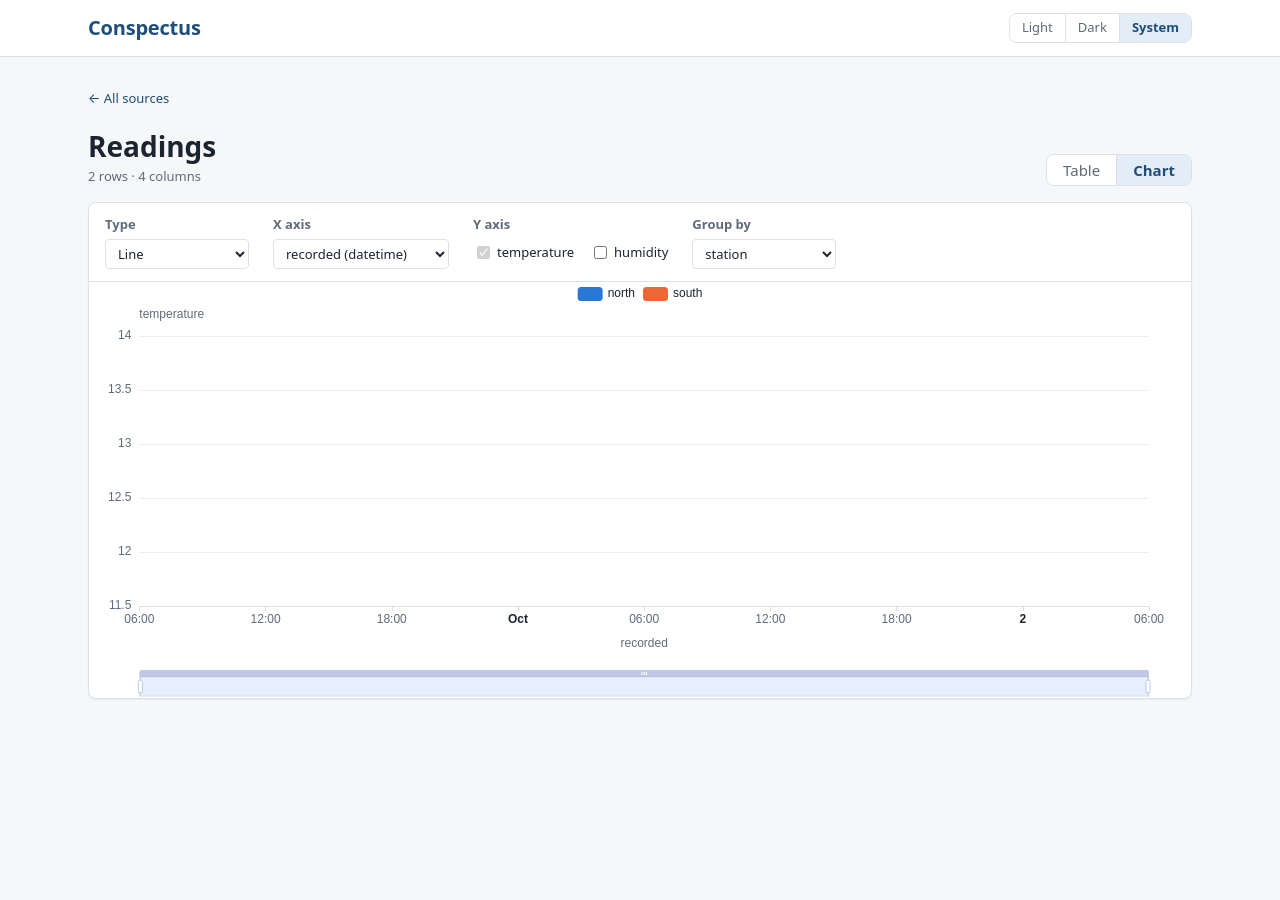
ChartView › turns off grouping when several y columns are chosen
Click the checkbox labelled "humidity": (601, 252) [594,246,607,259]
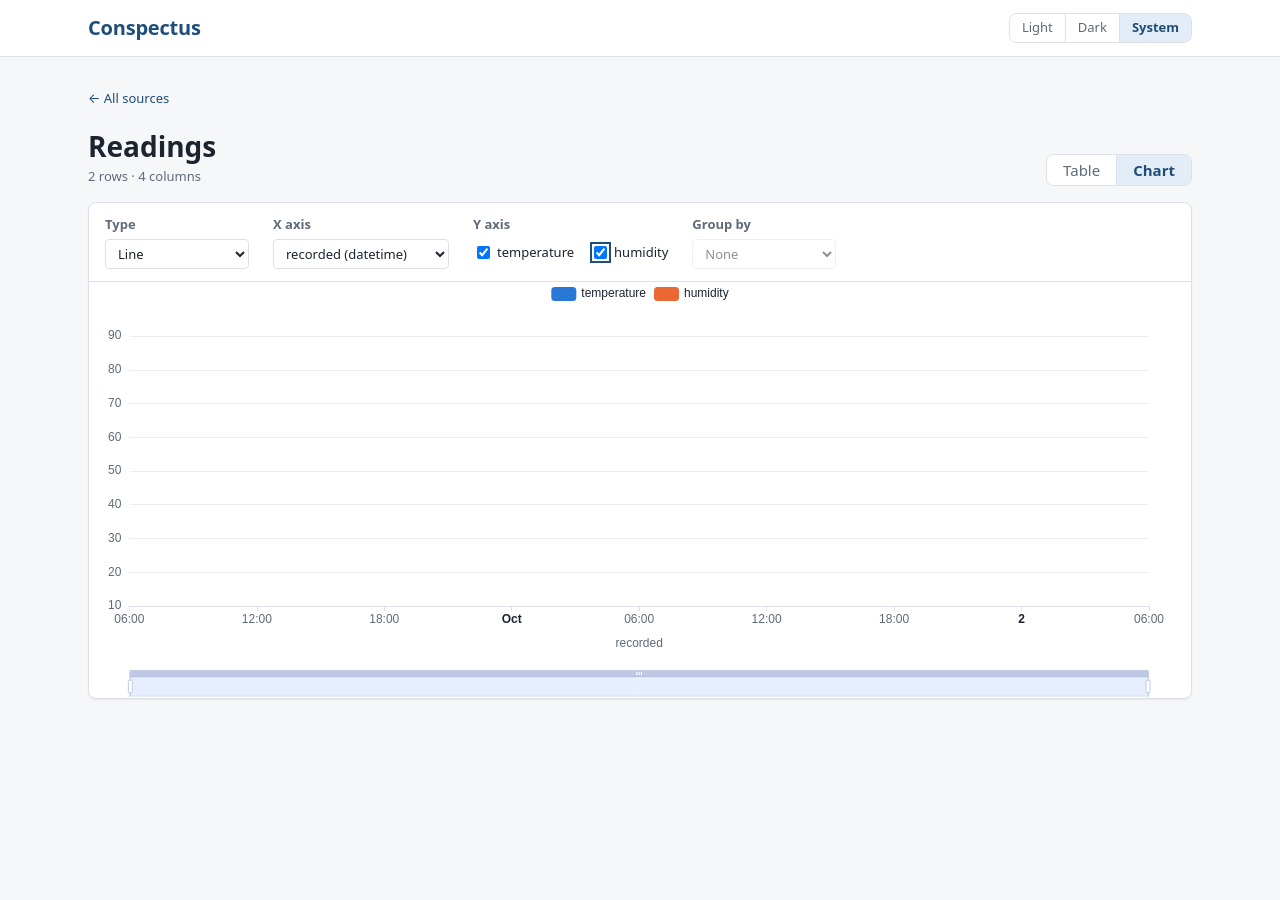
Check: the dropdown labelled "Group by" is disabled, box [692,238,836,268]
Check: the dropdown labelled "Group by" shows "None", box [692,238,836,268]
